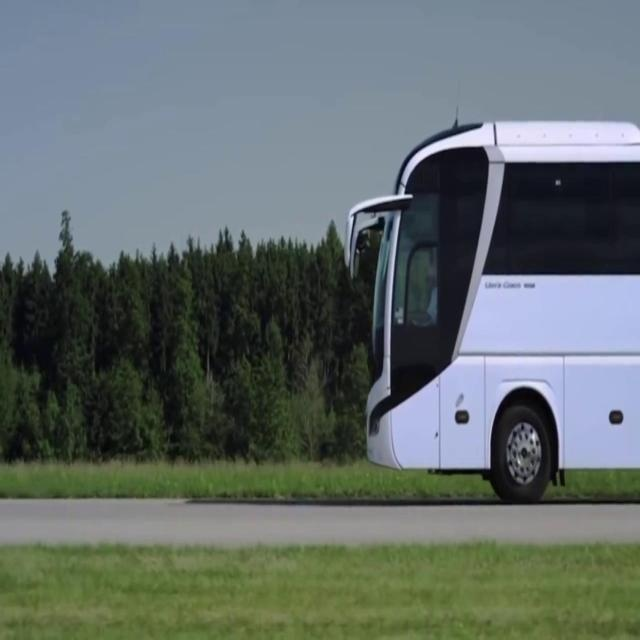Bus: (345, 102, 640, 502)
